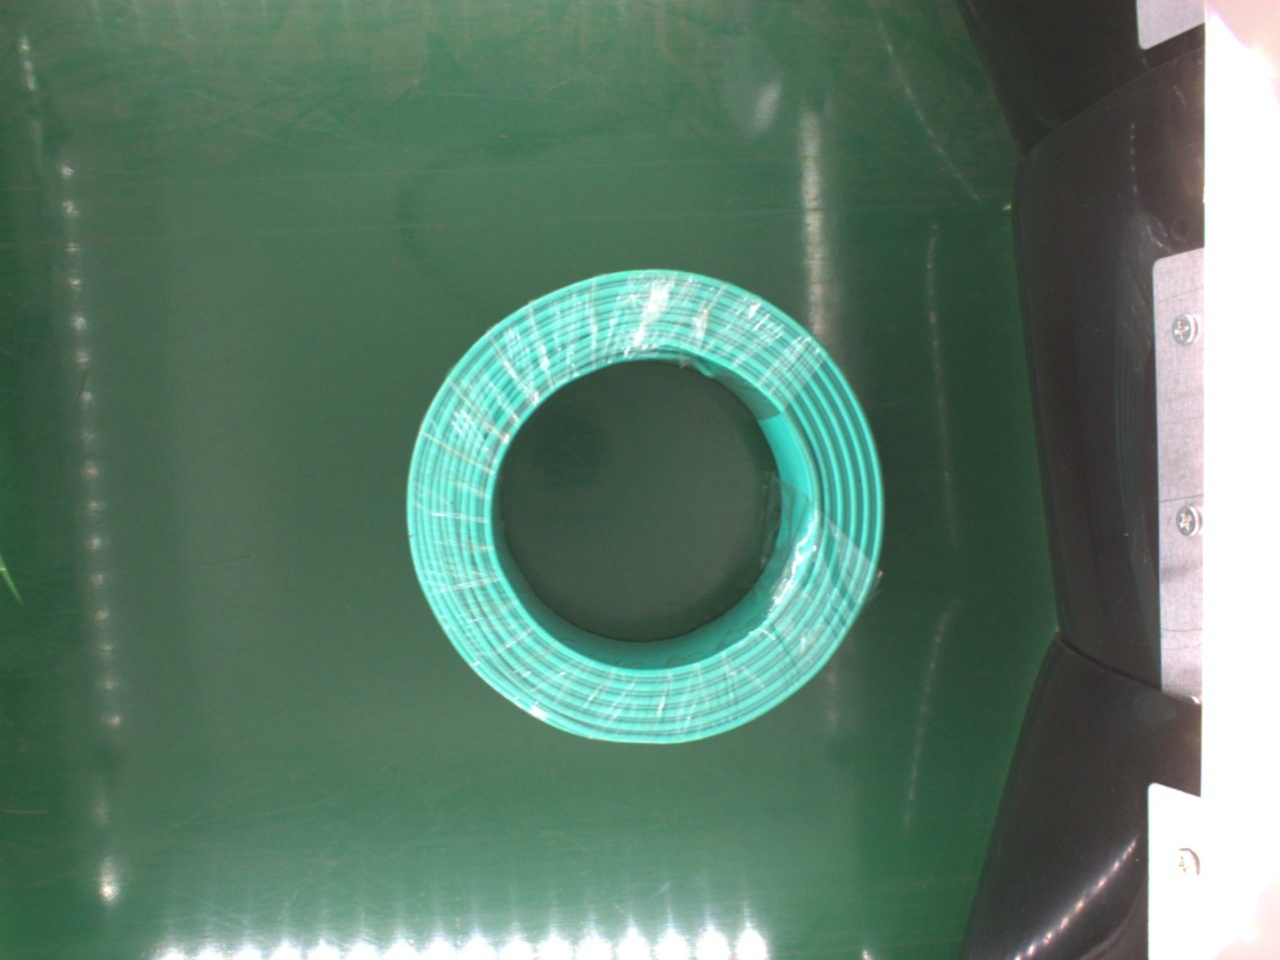green: (402, 269, 885, 746)
